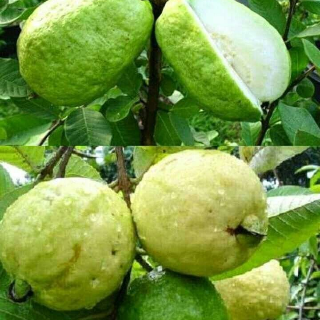oi: (1, 178, 134, 312), (132, 149, 269, 278)
